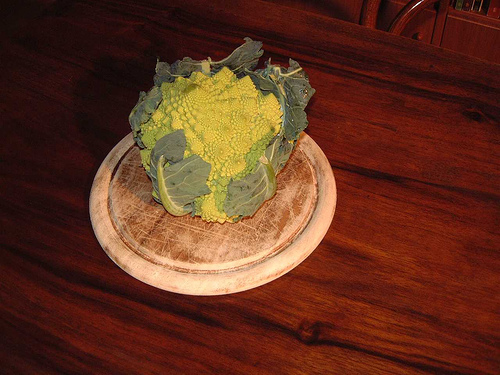cauliflower: (129, 38, 314, 223)
